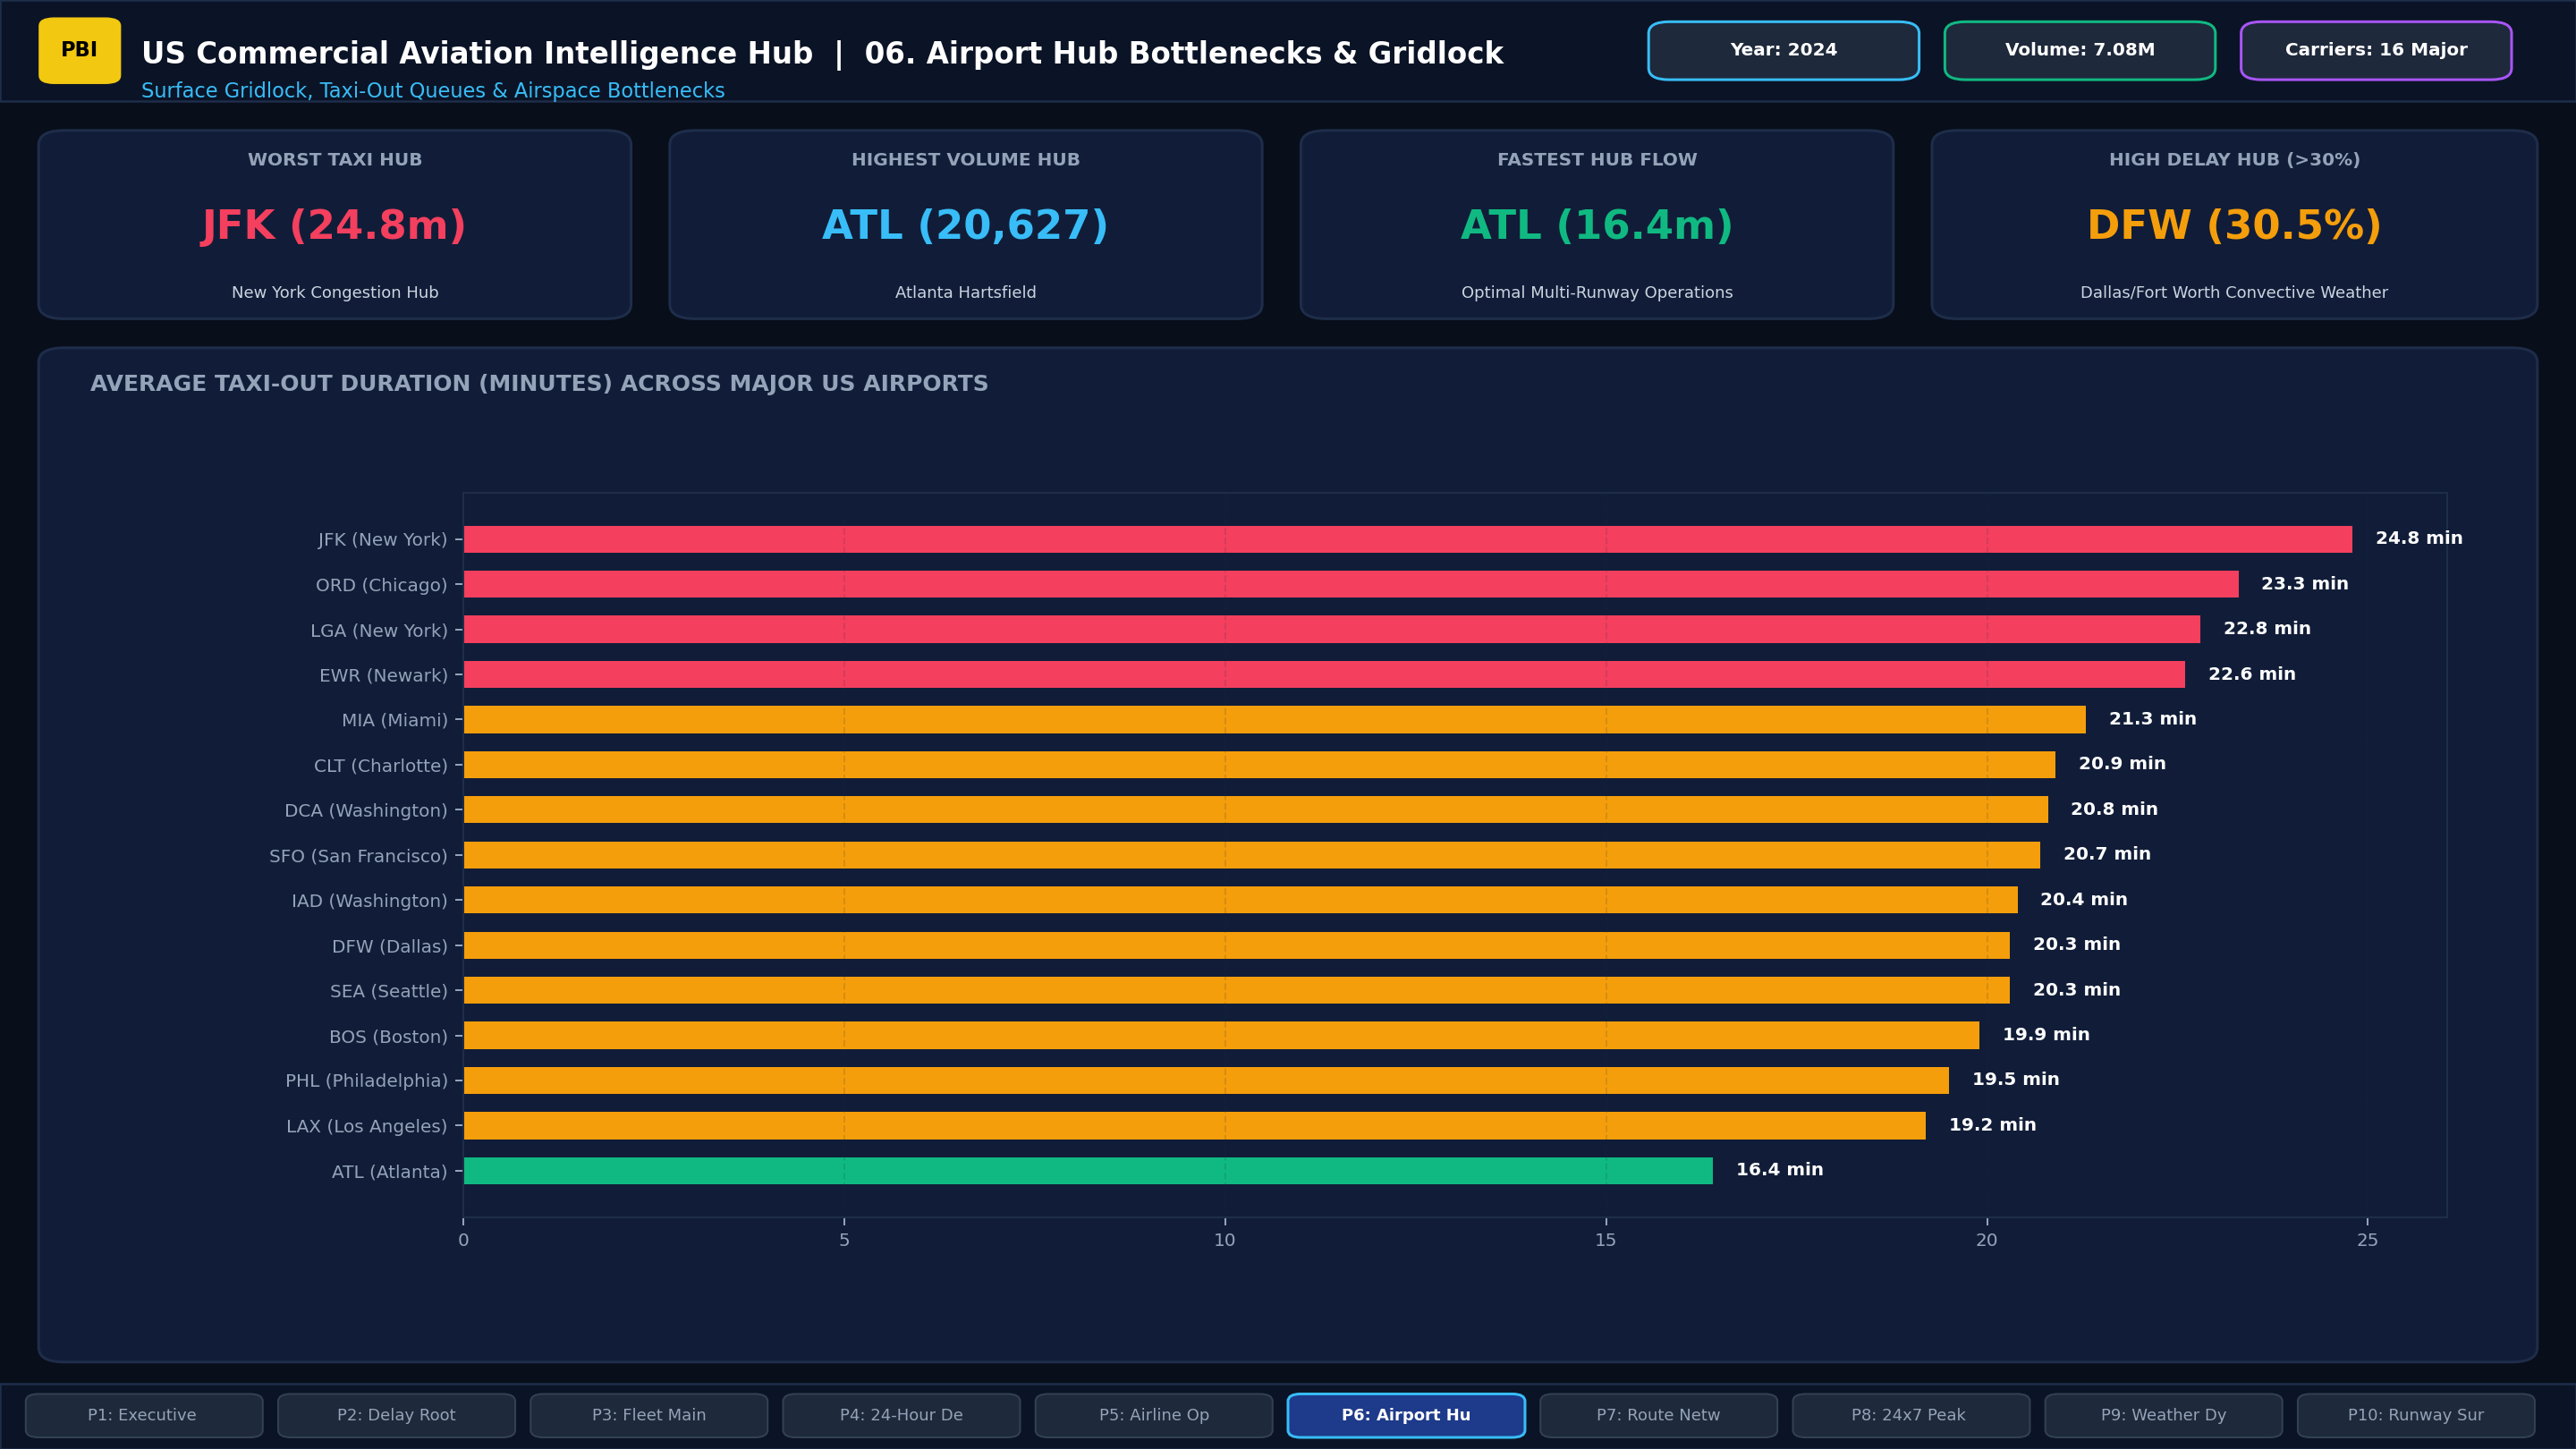

What the dashboard file says about the page in this screenshot:
{"tool":"powerbi","page":{"name":"6. Airport Hub Operations","canvas":[1920,1080],"ordinal":5},"visuals":[{"type":"cardVisual","fields":{"Data":["dim_airlines.Total Flights"]},"box":[40,40,440,130],"z":1},{"type":"cardVisual","fields":{"Data":["dim_airlines.Avg Departure Delay (min)"]},"box":[506,40,440,130],"z":2},{"type":"cardVisual","fields":{"Data":["dim_airlines.NAS Delay Hours"]},"box":[972,40,440,130],"z":3},{"type":"cardVisual","fields":{"Data":["dim_airlines.Weather Delay Hours"]},"box":[1438,40,440,130],"z":4},{"type":"clusteredBarChart","title":"Departure Delay Severity by US State Hubs","fields":{"Category":["flight_data_2024_powerbi.origin_state_nm"],"Y":["dim_airlines.Avg Departure Delay (min)"]},"box":[40,200,720,480],"z":5},{"type":"tableEx","title":"Airport Hub Surface & Airspace Congestion Matrix","fields":{"Values":["flight_data_2024_powerbi.origin","flight_data_2024_powerbi.origin_city_name","flight_data_2024_powerbi.origin_state_nm","dim_airlines.Total Flights","dim_airlines.Avg Departure Delay (min)","dim_airlines.Avg Taxi-Out (min)","dim_airlines.NAS Delay Hours"]},"box":[780,200,700,480],"z":6},{"type":"lineStackedColumnComboChart","title":"Air Traffic (NAS) vs Weather Delay Hours across All Hubs","fields":{"Category":["dim_calendar.MonthName"],"Y":["dim_airlines.NAS Delay Hours"],"Y2":["dim_airlines.Weather Delay Hours"]},"box":[40,700,1440,340],"z":7},{"type":"slicer","title":"Select State","fields":{"Values":["flight_data_2024_powerbi.origin_state_nm"]},"box":[1500,200,380,840],"z":8}]}

Visuals, with their boxes on the page's 1920x1080 design canvas (x1, y1, x2, y2). These are canvas units, not pixel positions in the 2576x1449 screenshot, which may show the page scaled, cropped or inside an application window:
cardVisual - dim_airlines.Total Flights: <region>40, 40, 480, 170</region>
cardVisual - dim_airlines.Avg Departure Delay (min): <region>506, 40, 946, 170</region>
cardVisual - dim_airlines.NAS Delay Hours: <region>972, 40, 1412, 170</region>
cardVisual - dim_airlines.Weather Delay Hours: <region>1438, 40, 1878, 170</region>
"Departure Delay Severity by US State Hubs" clusteredBarChart: <region>40, 200, 760, 680</region>
"Airport Hub Surface & Airspace Congestion Matrix" tableEx: <region>780, 200, 1480, 680</region>
"Air Traffic (NAS) vs Weather Delay Hours across All Hubs" lineStackedColumnComboChart: <region>40, 700, 1480, 1040</region>
"Select State" slicer: <region>1500, 200, 1880, 1040</region>
